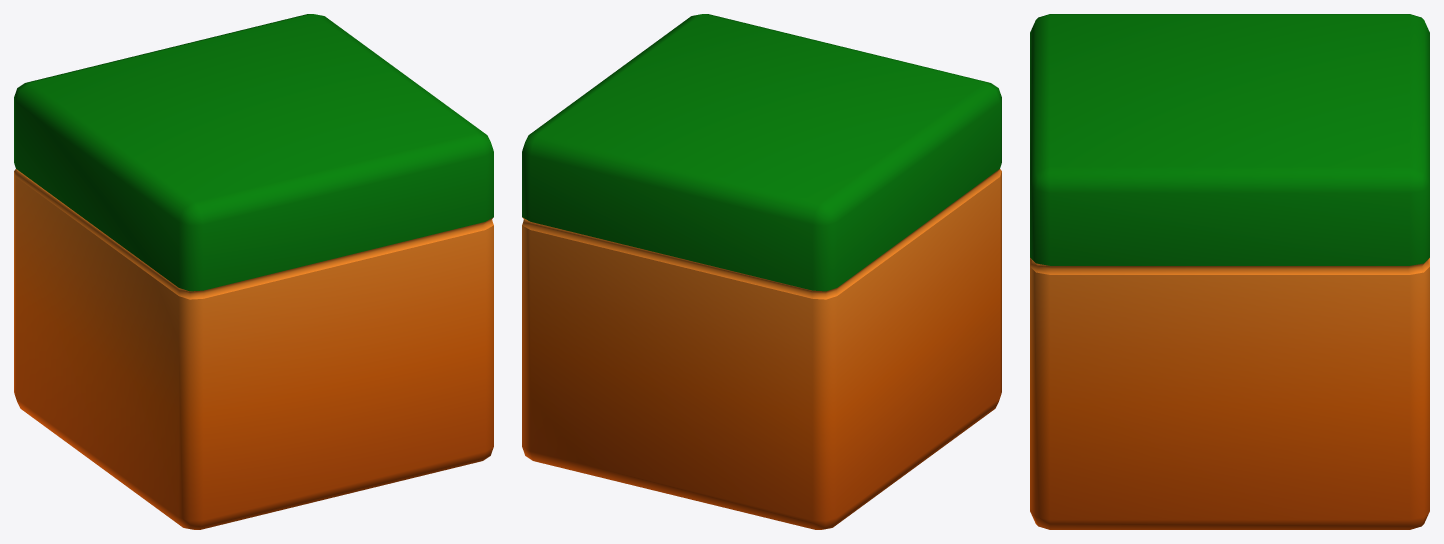
The model's file is 3D_Tile_Ground_01v02.fbx.
3 renders of one model, left to right at view 1: azimuth 30°, elevation 25°; view 2: azimuth 150°, elevation 25°; view 3: azimuth 270°, elevation 25°, orthographic. The views are drawn at different scales.
Parts seen in each view (by area): view 1: 3D_Tile_Ground_01v02; view 2: 3D_Tile_Ground_01v02; view 3: 3D_Tile_Ground_01v02.
Boxes of the visible parts, x1,y1,x2,y2 form: 3D_Tile_Ground_01v02: (14,14,493,529); 3D_Tile_Ground_01v02: (522,14,1001,529); 3D_Tile_Ground_01v02: (1030,14,1429,529).
Size of the model in its own units: 200 by 200 by 200.
